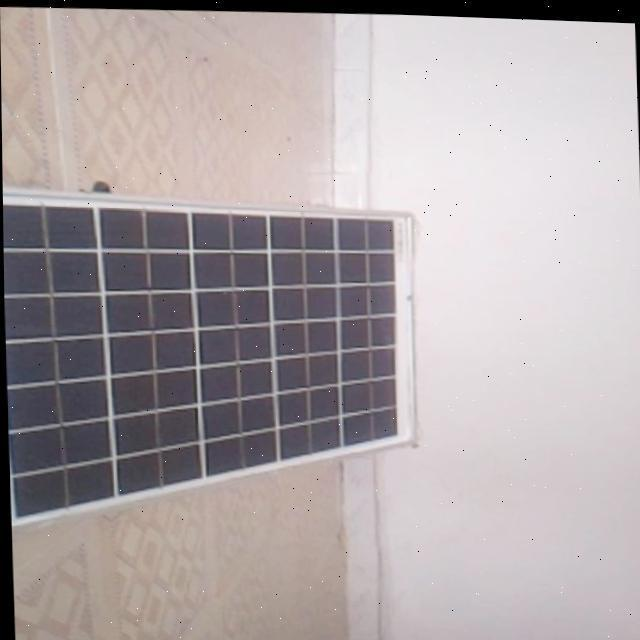Normal Solar Panel: (2, 178, 424, 539)
